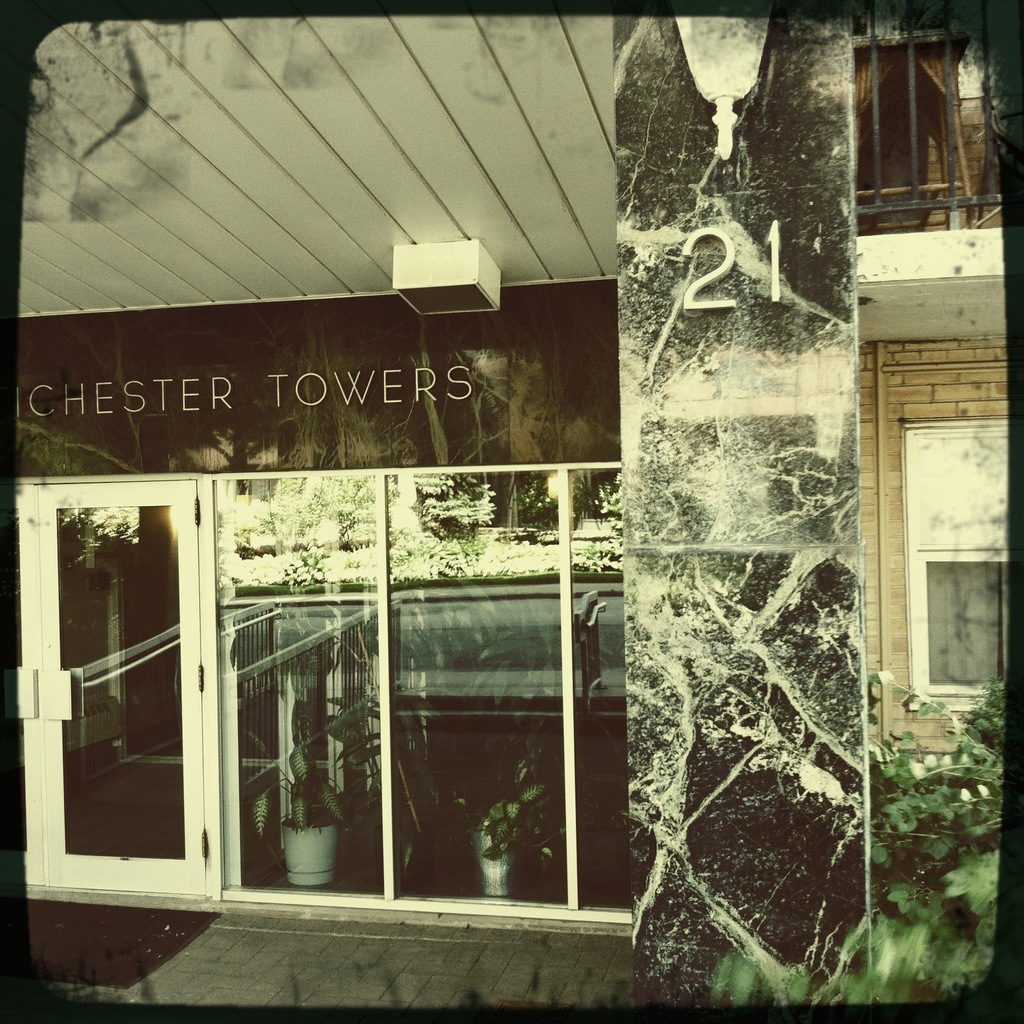Tree: (51, 465, 502, 595), (442, 471, 630, 525)
